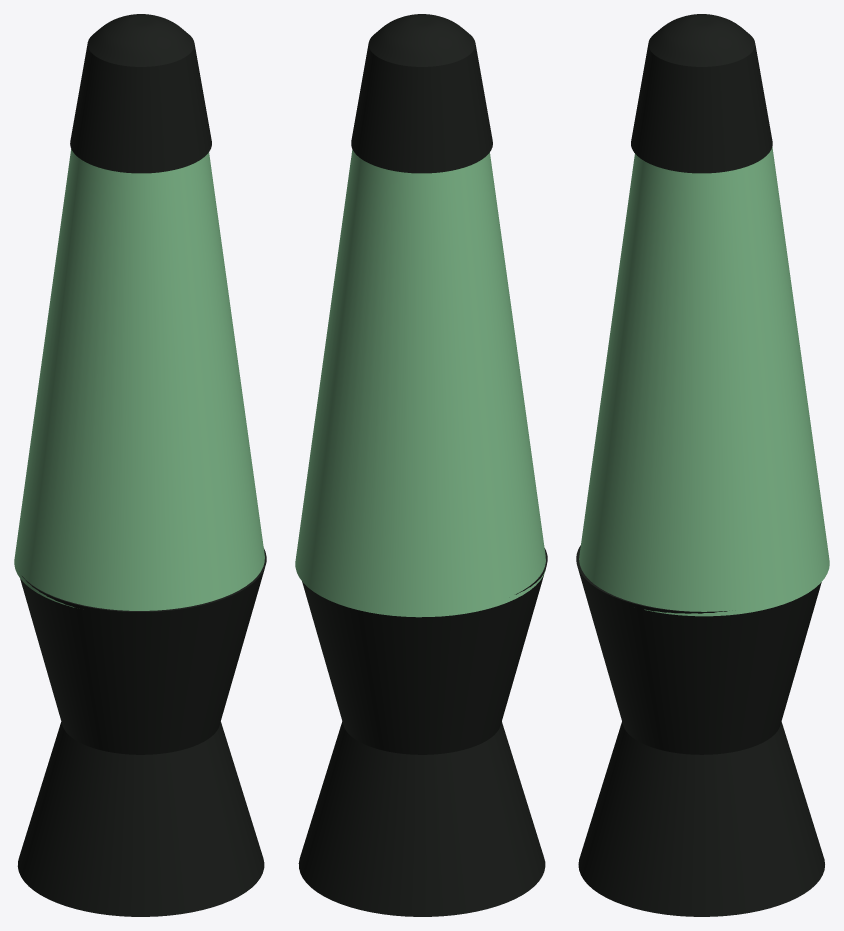
3 renders of one model, left to right at view 1: azimuth 30°, elevation 25°; view 2: azimuth 150°, elevation 25°; view 3: azimuth 270°, elevation 25°, orthographic.
Visible parts, largest first — view 1: tapered_lamp; view 2: tapered_lamp; view 3: tapered_lamp.
Part boxes in pixels (x1,y1,x2,y2): tapered_lamp: (14,14,266,916); tapered_lamp: (295,14,547,916); tapered_lamp: (576,14,829,916).
Bounding box in the file's own units: 0.108 × 0.4 × 0.109.
